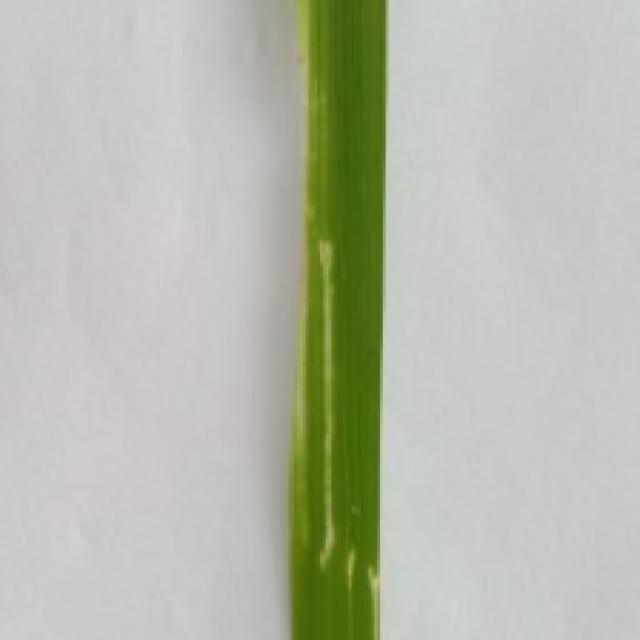Bacterial_Blight: (315, 225, 343, 564), (294, 0, 309, 517), (360, 555, 400, 640), (342, 540, 370, 594)
